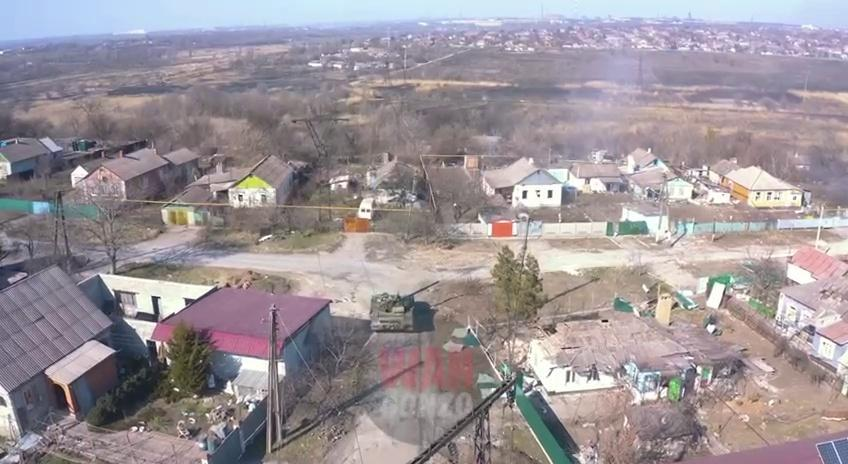tank: (370, 280, 440, 331)
